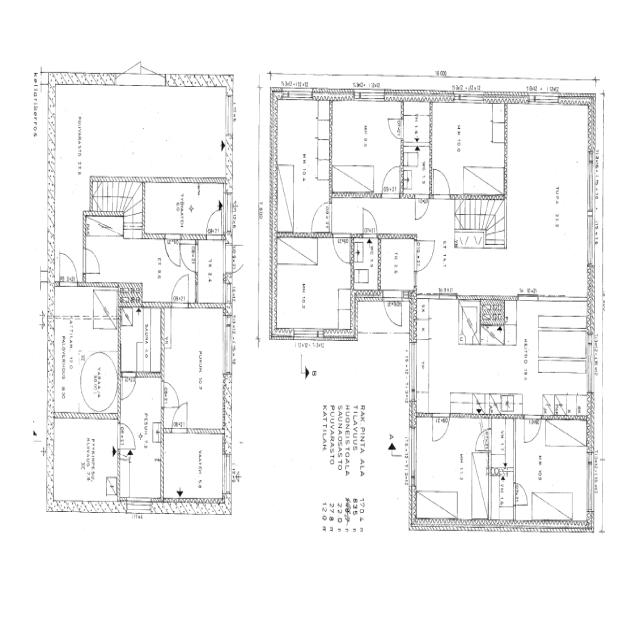door: (163, 382, 188, 423), (56, 250, 80, 288), (431, 165, 454, 200), (382, 291, 403, 329), (310, 199, 332, 235), (415, 237, 436, 273), (431, 408, 451, 445), (177, 239, 198, 274), (162, 234, 182, 270), (332, 231, 352, 266), (380, 163, 400, 198), (523, 412, 543, 446), (170, 273, 190, 307), (169, 402, 190, 433), (82, 245, 102, 277), (359, 205, 379, 237), (204, 206, 224, 238), (117, 420, 137, 452), (161, 379, 181, 408), (120, 371, 138, 401), (386, 115, 404, 142), (512, 480, 530, 506), (414, 194, 430, 222)
window: (584, 154, 597, 218), (584, 206, 596, 268), (408, 423, 419, 485), (586, 454, 596, 522), (220, 445, 233, 496), (221, 319, 232, 376), (222, 93, 234, 142), (409, 340, 419, 397), (126, 494, 154, 514), (533, 90, 562, 109), (584, 334, 594, 389), (292, 326, 322, 344), (222, 183, 232, 233), (285, 87, 313, 103), (356, 90, 384, 104), (459, 92, 486, 105), (435, 288, 458, 302), (222, 241, 230, 277)
zone: (414, 298, 589, 414), (506, 101, 591, 295), (47, 285, 119, 420), (162, 304, 228, 432), (514, 419, 592, 527), (414, 413, 491, 522), (272, 234, 354, 336), (275, 96, 331, 237), (504, 102, 590, 191), (329, 100, 403, 194), (430, 99, 505, 191), (48, 420, 118, 513), (120, 370, 162, 496), (160, 430, 228, 505), (145, 179, 226, 235), (120, 306, 162, 376), (117, 446, 163, 504), (379, 236, 417, 296), (196, 238, 226, 308), (352, 233, 381, 298), (401, 100, 432, 150), (401, 147, 431, 195), (490, 415, 515, 471), (491, 466, 514, 526)
